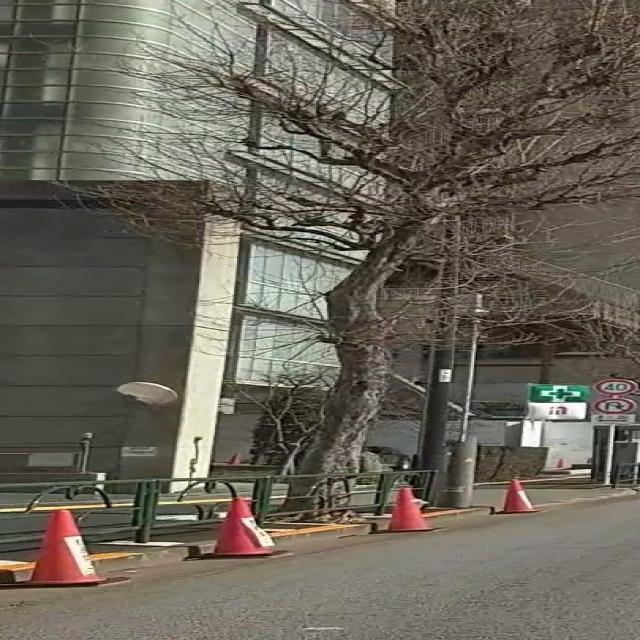maple: (52, 0, 640, 524)
